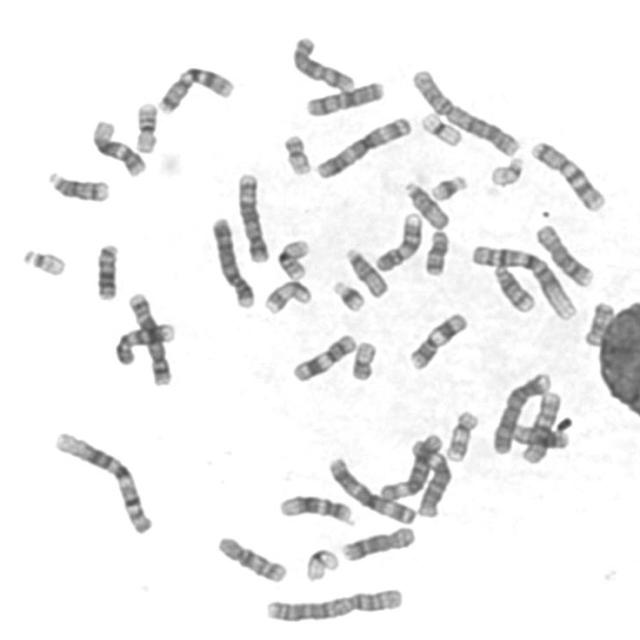A1: (47, 424, 155, 536), (465, 239, 579, 322)
A2: (407, 64, 522, 157), (259, 580, 405, 624)
A3: (309, 110, 414, 180), (324, 452, 418, 525)
B4: (487, 366, 553, 456), (205, 212, 257, 310)
B5: (123, 287, 174, 387), (232, 166, 272, 264)
C10: (211, 531, 289, 584), (516, 386, 564, 466)
C11: (404, 308, 469, 372), (286, 329, 358, 384)
C12: (86, 113, 148, 178), (274, 489, 356, 526)
C6: (375, 428, 445, 502), (405, 433, 455, 519)
C7: (526, 135, 608, 213), (152, 61, 237, 115)
C8: (530, 218, 596, 289), (337, 520, 418, 564)
C9: (370, 207, 424, 273), (110, 316, 178, 367)
D13: (492, 415, 578, 455), (90, 237, 120, 302)
D14: (489, 259, 538, 313), (42, 166, 112, 203)
D15: (399, 176, 451, 231), (341, 242, 389, 299)
E16: (272, 234, 312, 281), (130, 96, 160, 155)
E17: (258, 275, 313, 316), (441, 406, 480, 463)
E18: (582, 298, 624, 350), (419, 225, 451, 278)
F19: (416, 106, 464, 148), (300, 543, 341, 583)
F20: (278, 129, 313, 176), (346, 336, 378, 382)
G21: (425, 169, 470, 203), (327, 275, 367, 313)
G22: (16, 243, 67, 278), (485, 151, 526, 188)
X: (286, 30, 357, 93), (301, 76, 386, 118)
